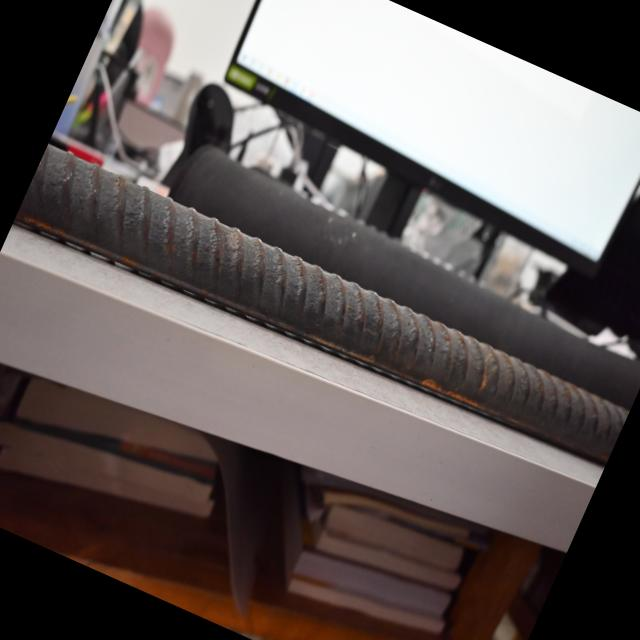ribbed bar: (10, 142, 632, 490)
